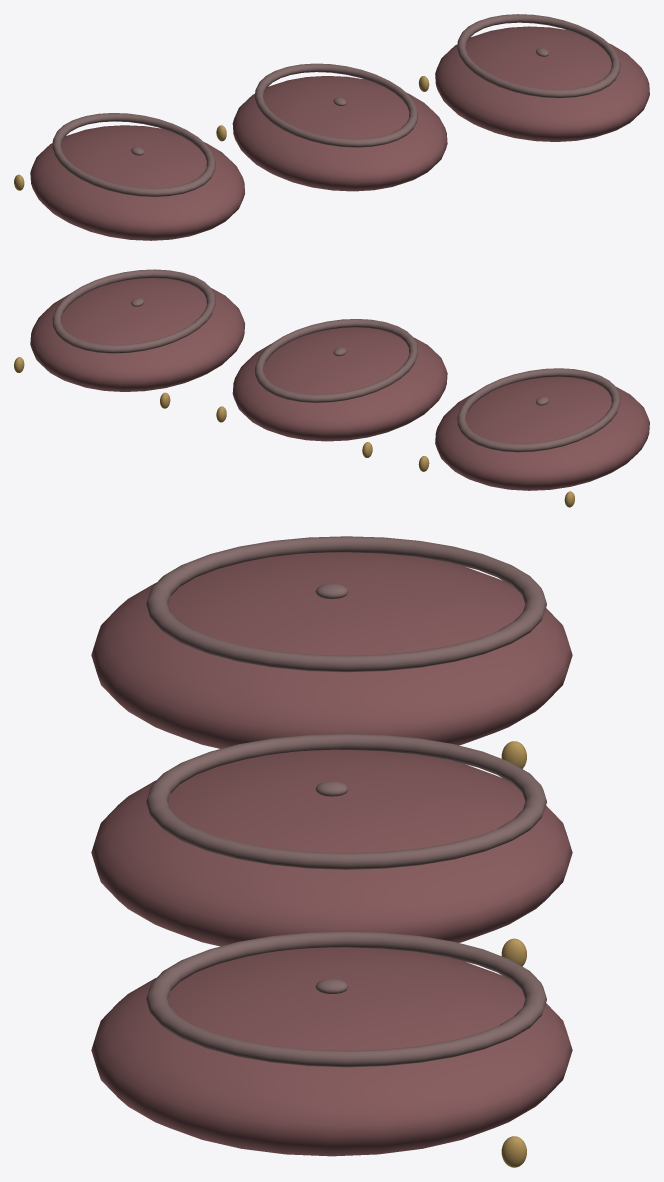
Rendered from detail_kneeling_cushions.glb.
3 renders of one model, top to bottom at view 1: azimuth 30°, elevation 25°; view 2: azimuth 150°, elevation 25°; view 3: azimuth 270°, elevation 25°, orthographic. The views are drawn at different scales.
Parts seen in each view (by area): view 1: cloth; view 2: cloth; view 3: cloth.
Part boxes in pixels (x1,y1,x2,y2): cloth: (14, 14, 649, 240); cloth: (14, 269, 649, 507); cloth: (91, 536, 572, 1167).
Size of the model in its own units: 2.8 by 0.3 by 1.
